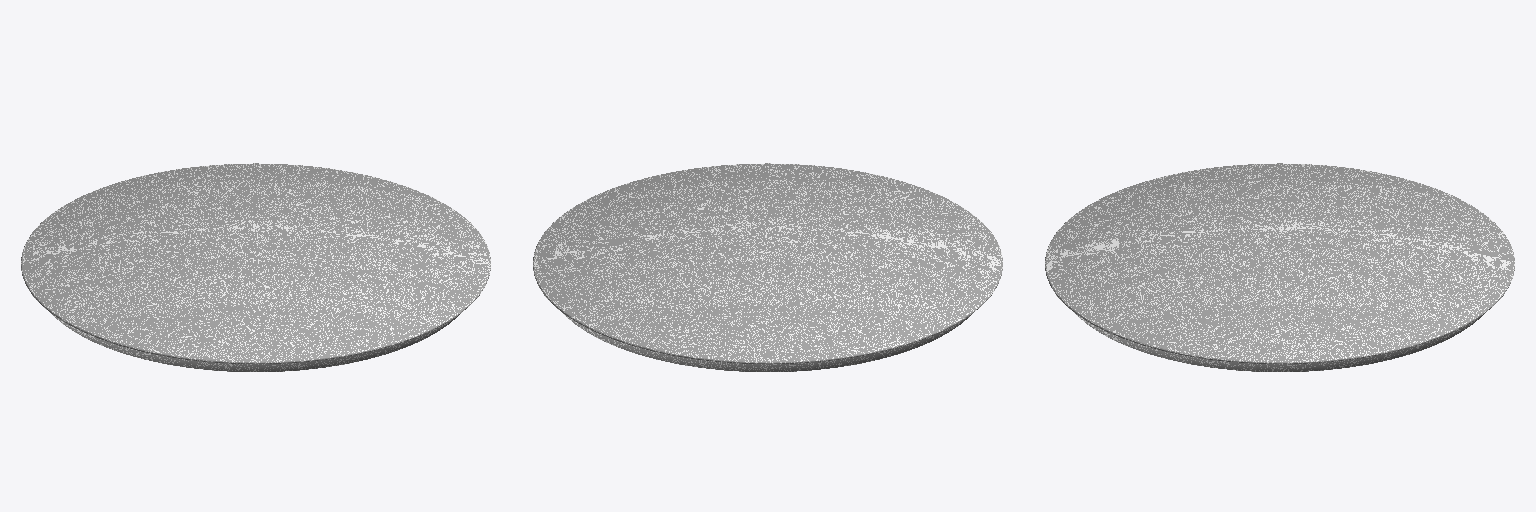
File: original-8.obj
3 views of the same model, side by side, from view 1: azimuth 30°, elevation 25°; view 2: azimuth 150°, elevation 25°; view 3: azimuth 270°, elevation 25° (orthographic).
Parts seen in each view (by area): view 1: group_3/ID40#ID40; view 2: group_3/ID40#ID40; view 3: group_3/ID40#ID40.
Part boxes in pixels (x1,y1,x2,y2): group_3/ID40#ID40: (21,163,490,371); group_3/ID40#ID40: (533,163,1002,371); group_3/ID40#ID40: (1045,163,1514,371).
Size of the model in its own units: 1.74 by 0.1909 by 1.74.